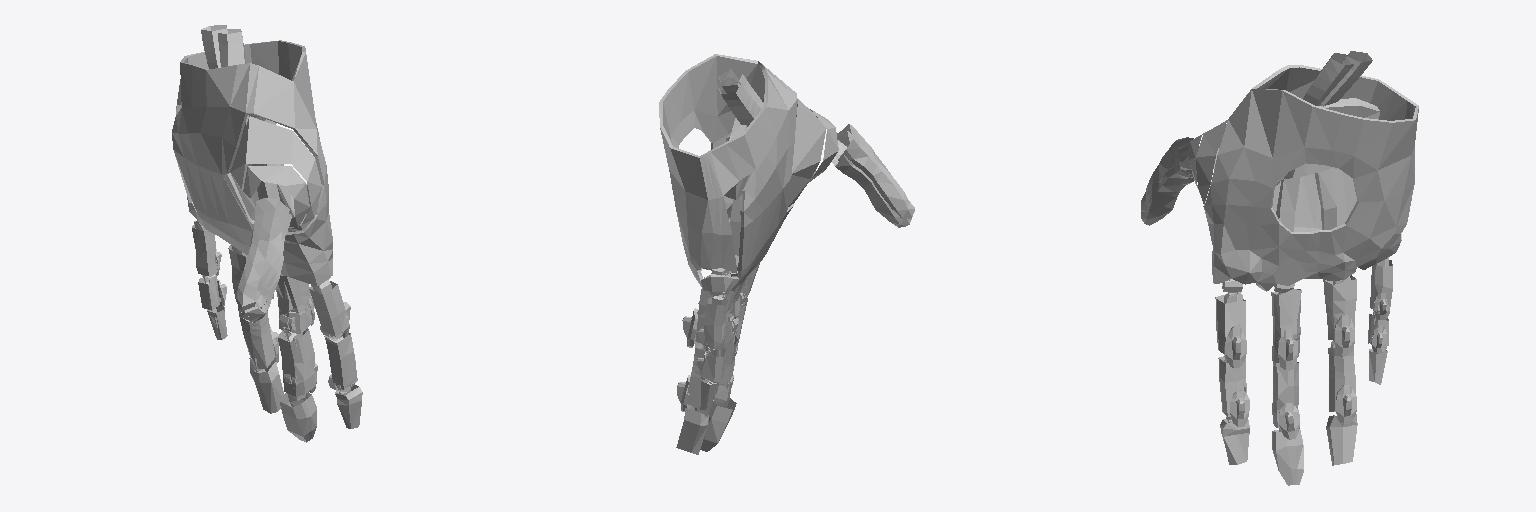
The model's file is LeftHand.obj.
3 renders of one model, left to right at view 1: azimuth 30°, elevation 25°; view 2: azimuth 150°, elevation 25°; view 3: azimuth 270°, elevation 25°, orthographic.
Parts seen in each view (by area): view 1: androide_pra_vender:Object024; view 2: androide_pra_vender:Object024; view 3: androide_pra_vender:Object024.
Boxes of the visible parts, box(x1,y1,x2,y2) form: androide_pra_vender:Object024: box(172, 25, 362, 442); androide_pra_vender:Object024: box(659, 54, 914, 454); androide_pra_vender:Object024: box(1141, 51, 1418, 485).
Size of the model in its own units: 0.1153 by 0.277 by 0.1722.